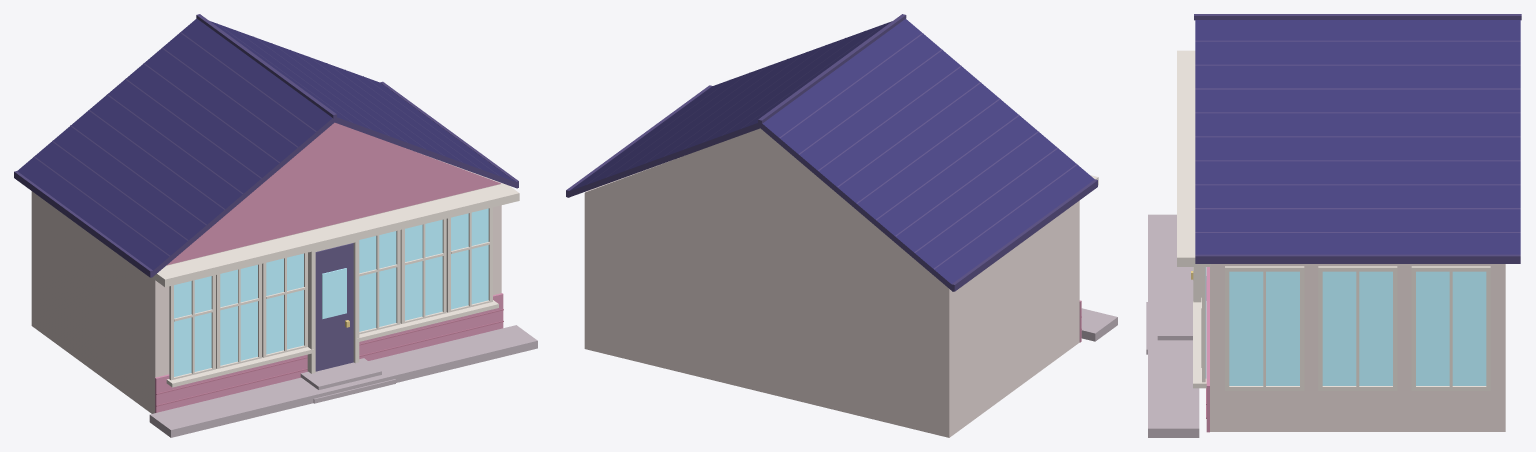
Rendered from pavilion.glb.
3 views of the same model, side by side, from view 1: azimuth 30°, elevation 25°; view 2: azimuth 150°, elevation 25°; view 3: azimuth 270°, elevation 25° (orthographic). The views are drawn at different scales.
Visible parts, largest first — view 1: roof, wall, details, windows, door; view 2: wall, roof, details; view 3: roof, windows, details, wall.
Boxes of the visible parts, x1,y1,x2,y2 form: roof: (14, 14, 518, 277); wall: (31, 122, 503, 413); details: (149, 183, 537, 437); windows: (174, 208, 488, 376); door: (315, 243, 353, 371); wall: (584, 128, 1081, 437); roof: (566, 14, 1097, 291); details: (1081, 175, 1117, 341); roof: (1194, 14, 1521, 263); windows: (1205, 267, 1486, 385); details: (1146, 50, 1490, 437); wall: (1206, 264, 1505, 432).
Bounding box in the file's own units: 4.47 × 3.06 × 3.3.
